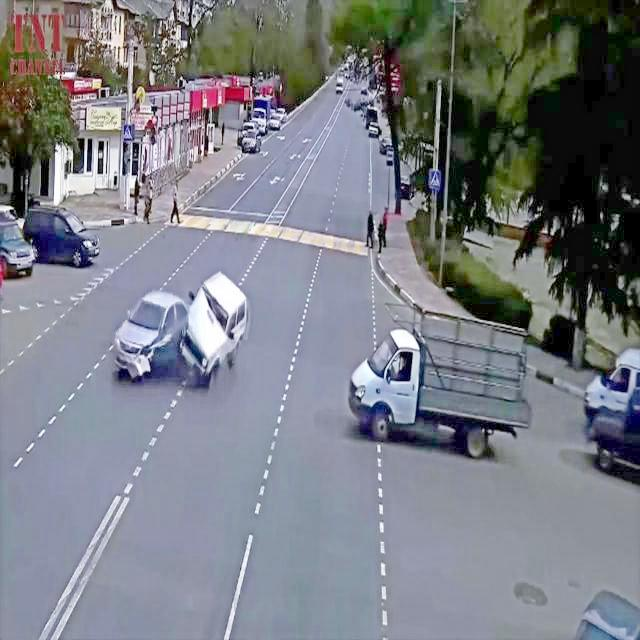Car: (109, 277, 189, 381), (180, 278, 249, 376), (28, 202, 102, 266), (0, 202, 41, 282), (238, 116, 266, 153), (266, 106, 287, 130)
Minor Accident: (114, 272, 248, 386)
Not Accident: (0, 206, 99, 276), (237, 108, 281, 154), (361, 86, 381, 140), (332, 54, 356, 94)
